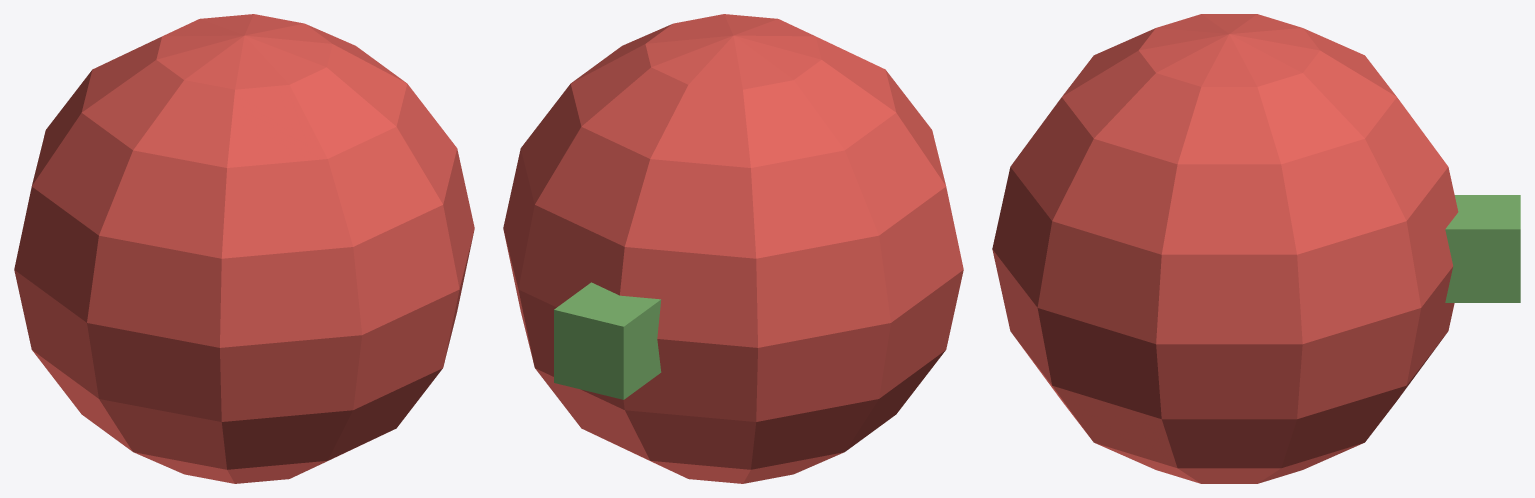
Rendered from Tomato.glb.
3 renders of one model, left to right at view 1: azimuth 30°, elevation 25°; view 2: azimuth 150°, elevation 25°; view 3: azimuth 270°, elevation 25°, orthographic.
Parts seen in each view (by area): view 1: Tomato; view 2: Tomato, Stem; view 3: Tomato, Stem.
Boxes of the visible parts, left/top/right/bottom form: Tomato: left=14, top=14, right=474, bottom=483; Tomato: left=503, top=14, right=963, bottom=483; Stem: left=554, top=282, right=661, bottom=399; Tomato: left=992, top=14, right=1458, bottom=483; Stem: left=1445, top=195, right=1520, bottom=302.
Bounding box in the file's own units: 0.0666 × 0.07 × 0.078.
